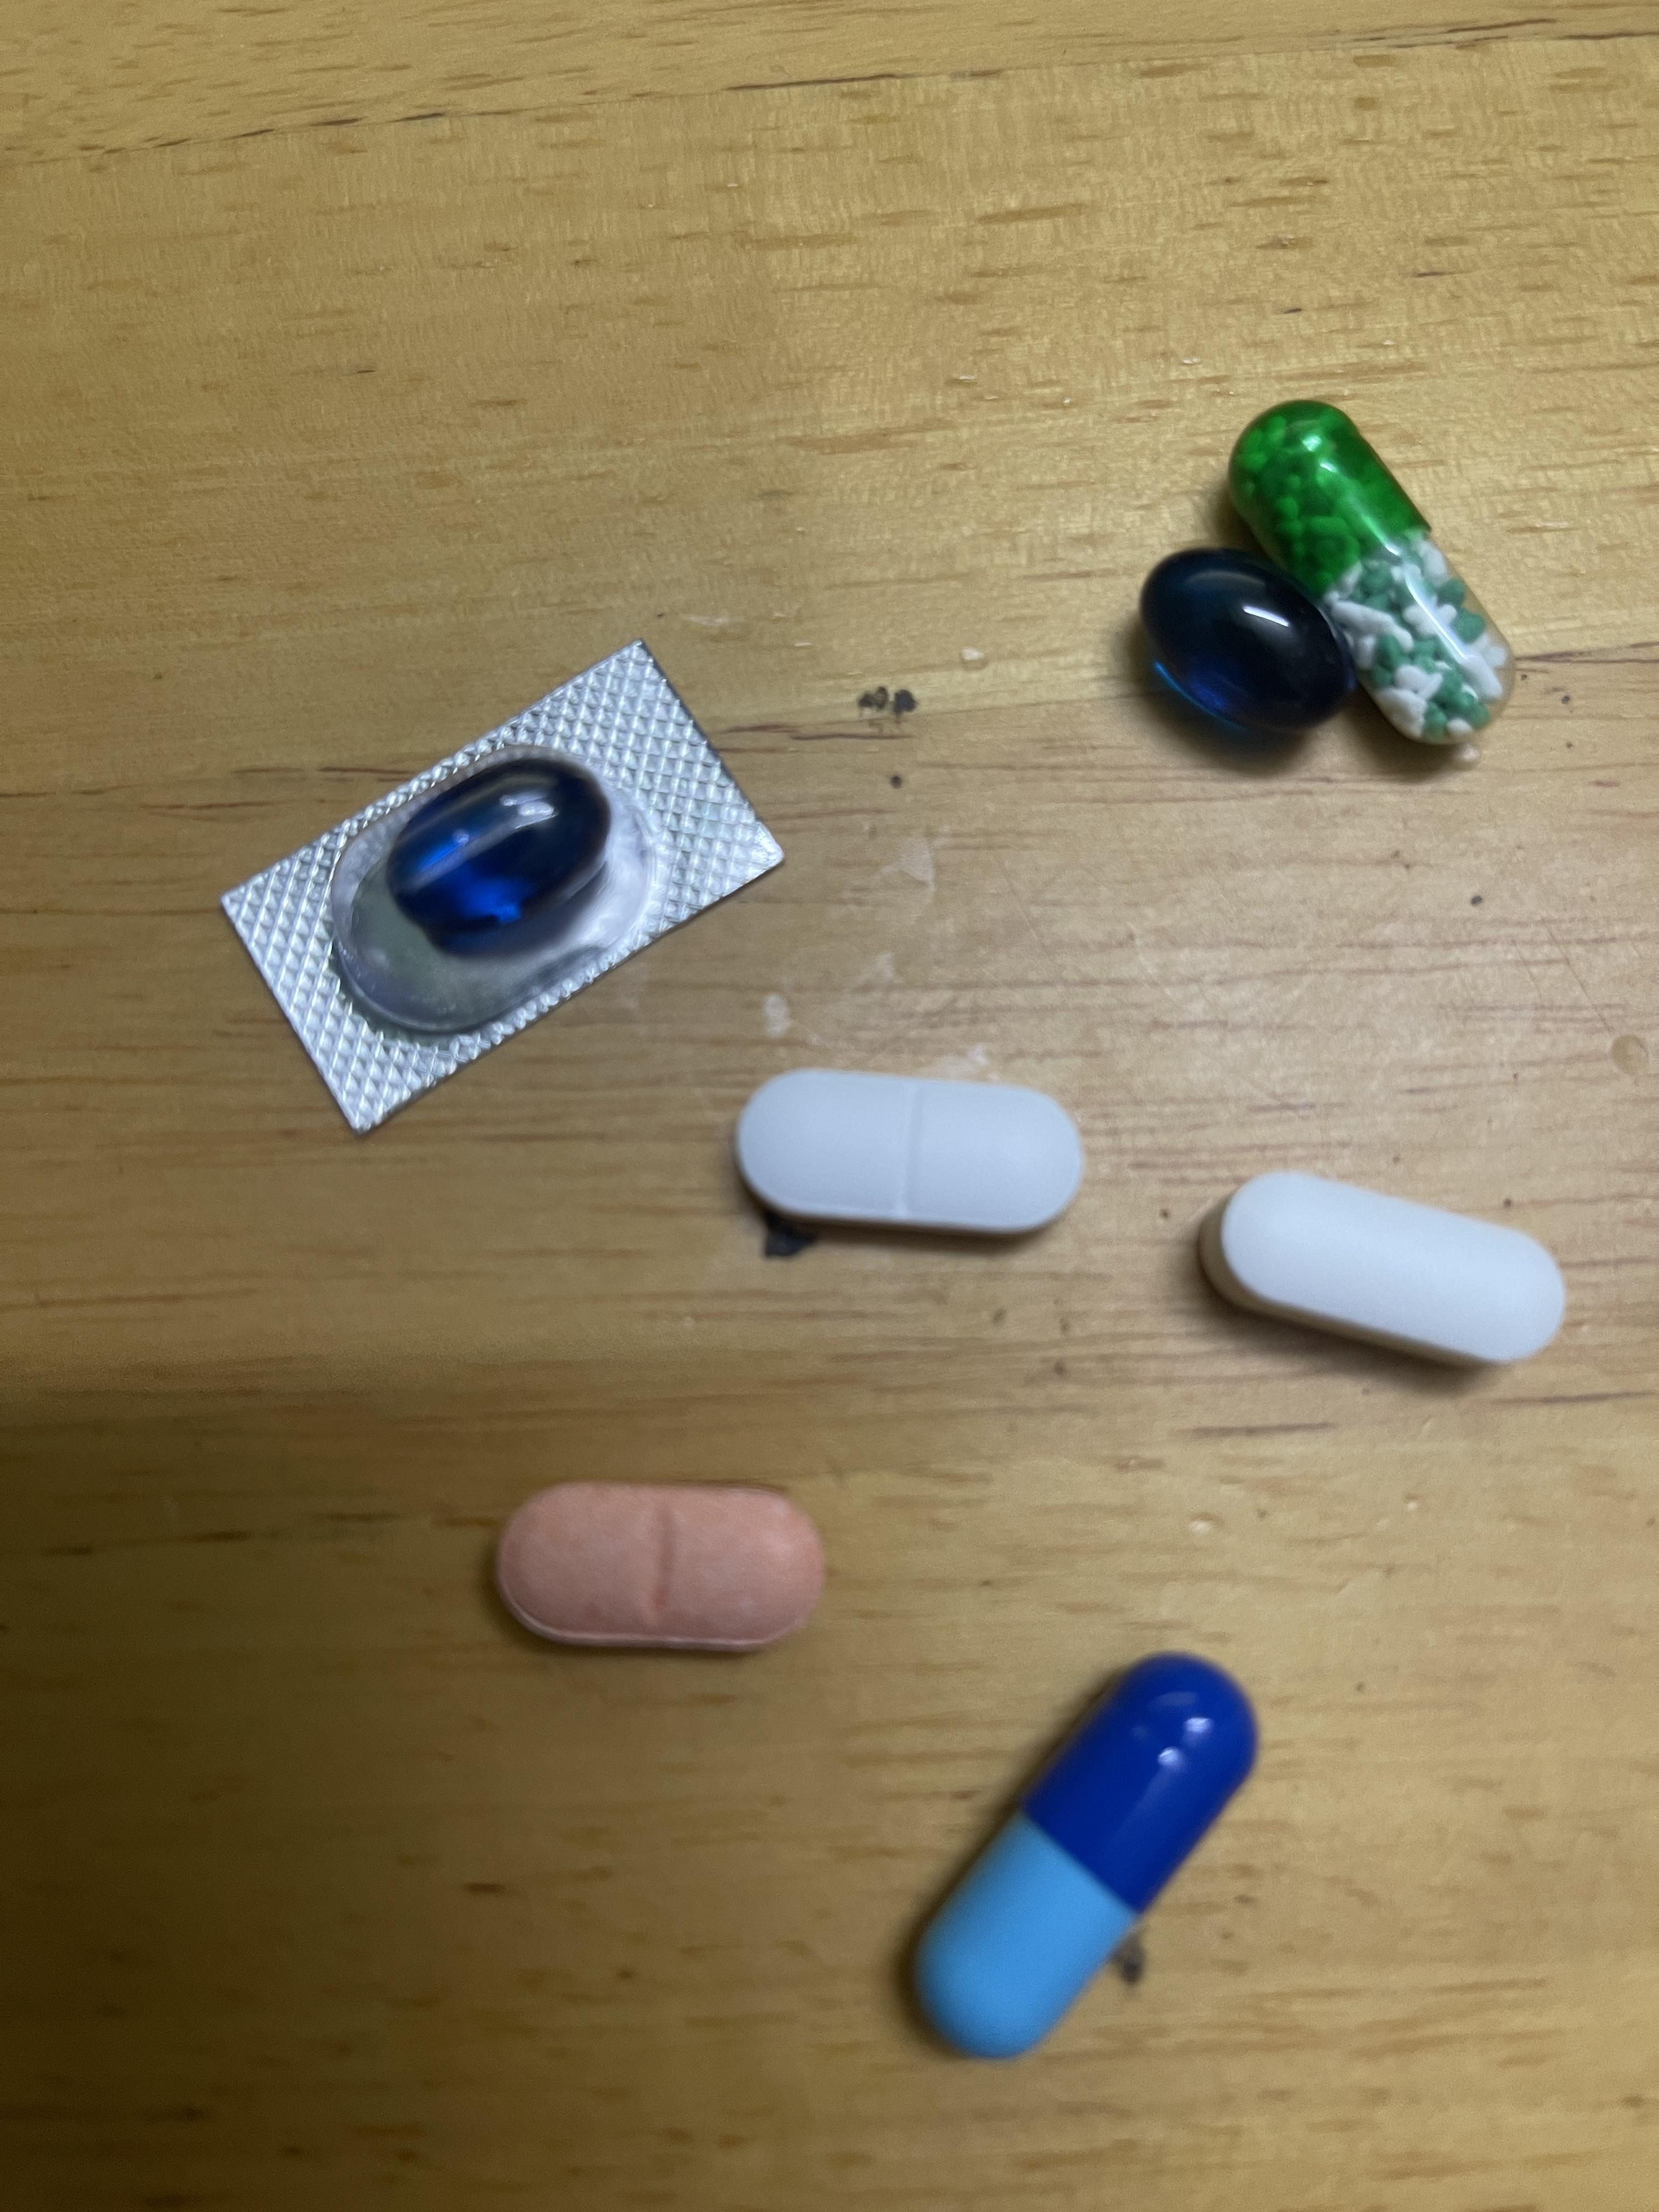Lincomyxin_500mg: (376, 758, 612, 949), (1136, 547, 1359, 738)
Loratadine_10mg: (500, 1480, 833, 1655)
Paracetamol_350mg: (739, 1054, 1075, 1247)
Paracetamol_500mg: (1213, 1157, 1560, 1367)
Paracetamol_650mg: (1236, 404, 1507, 738)
pill: (910, 1653, 1253, 2057)
